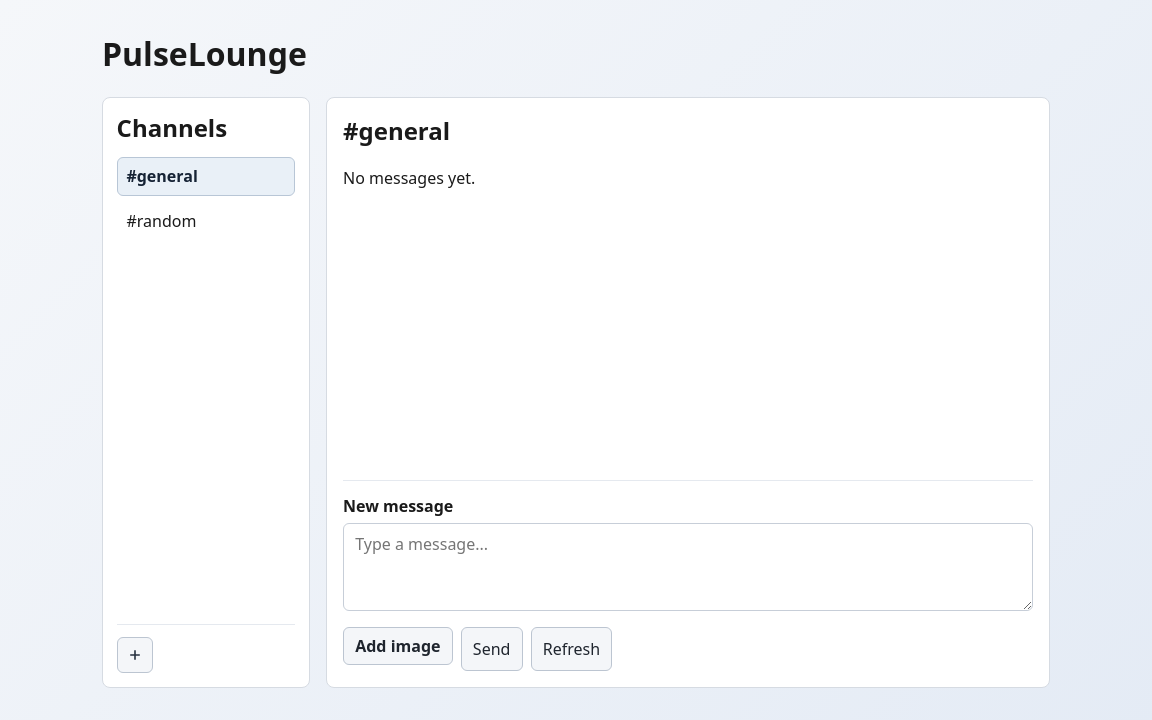
Scenario: App › shows validation errors when creating a blank channel
expect the text "No messages yet." is shown: met, box 343,167 -> 475,189
Click the button named "Add channel": (135, 655) 117,637 -> 153,673
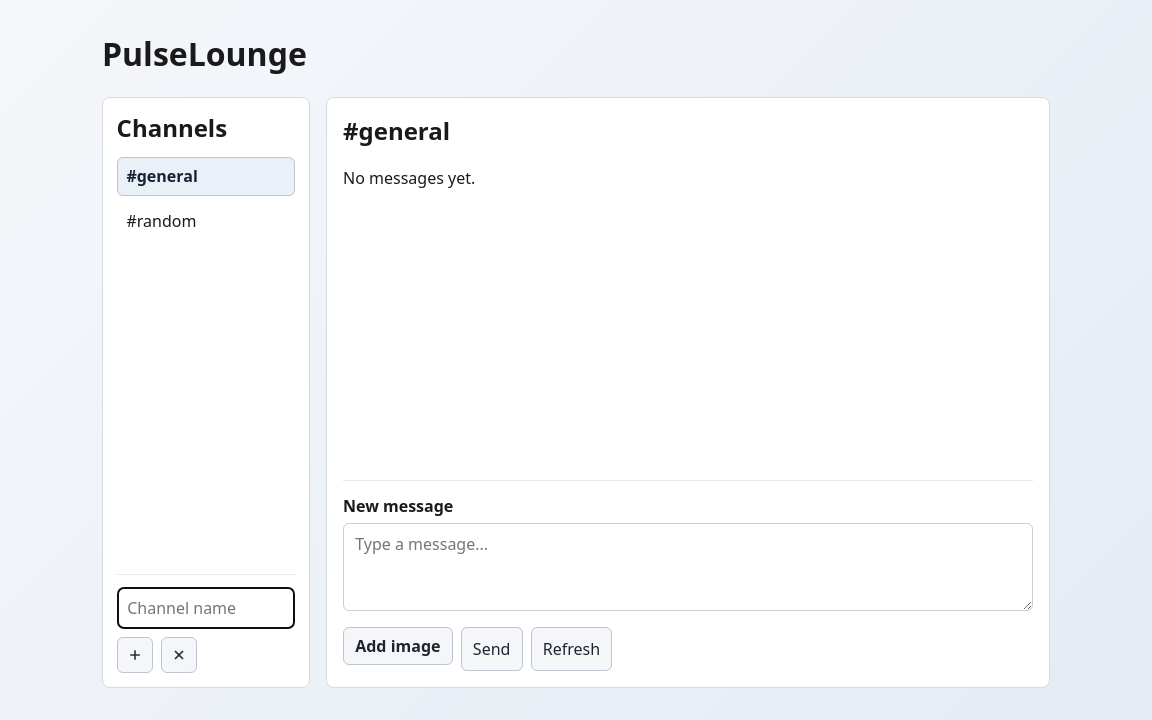
Click the button named "Create channel": (135, 655) 117,637 -> 153,673
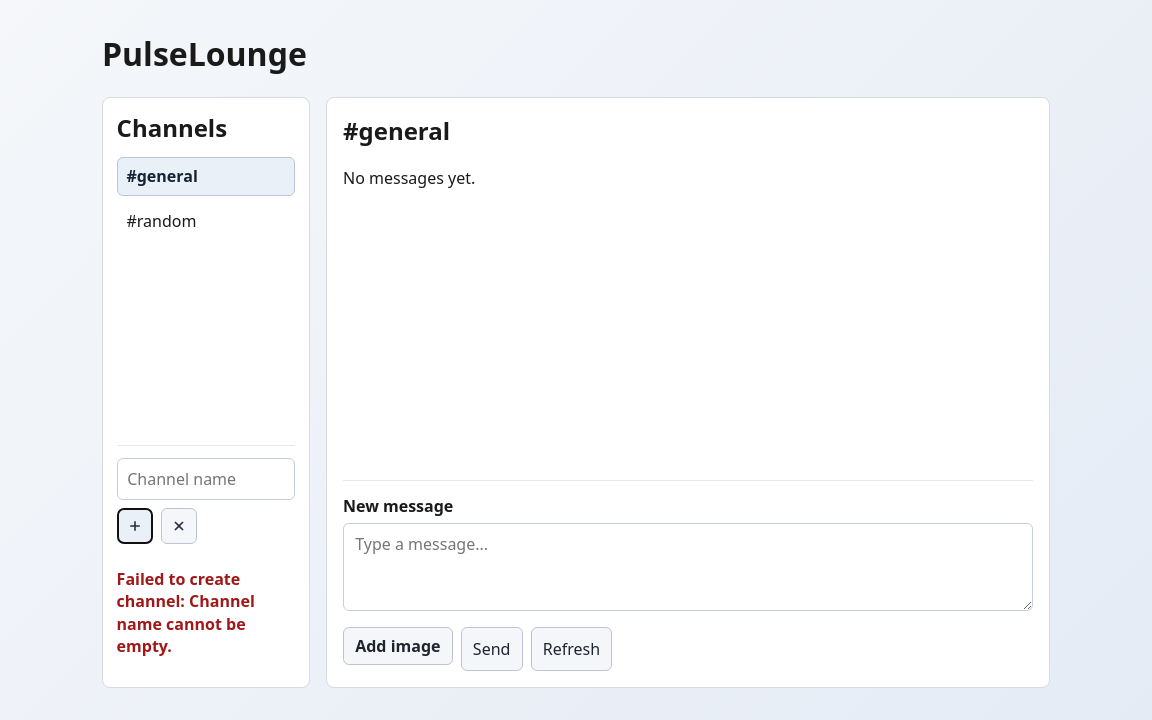
expect the text "Failed to create channel: Channel name cannot be empty." is shown: met, box 117,568 -> 255,657
